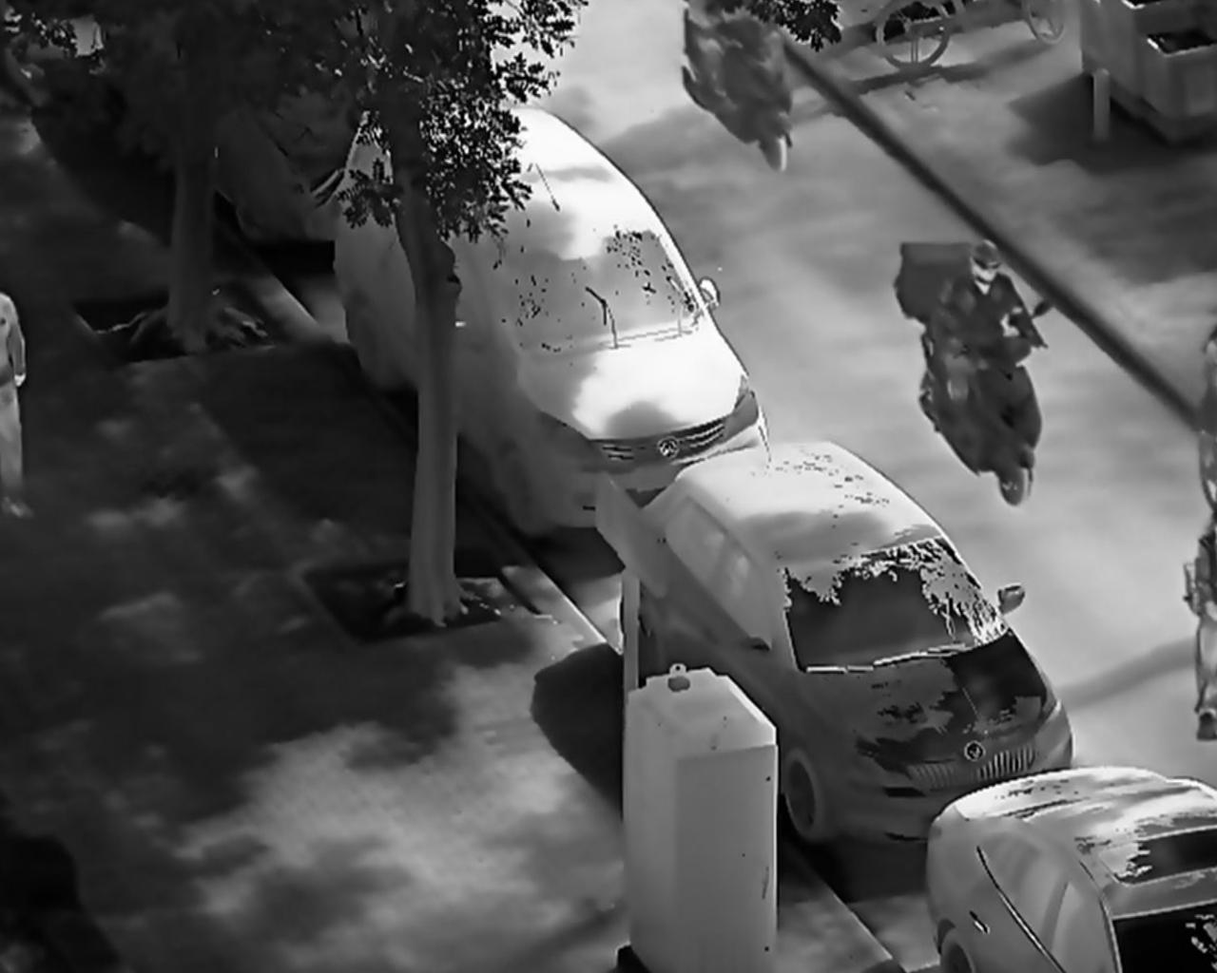person: (929, 238, 1051, 427)
